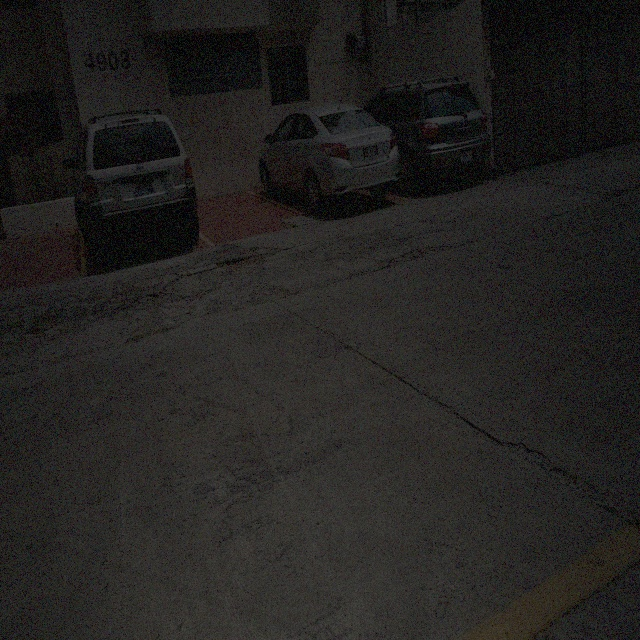pothole: (507, 432, 579, 494), (218, 250, 272, 278), (127, 288, 160, 312), (23, 322, 42, 336)
